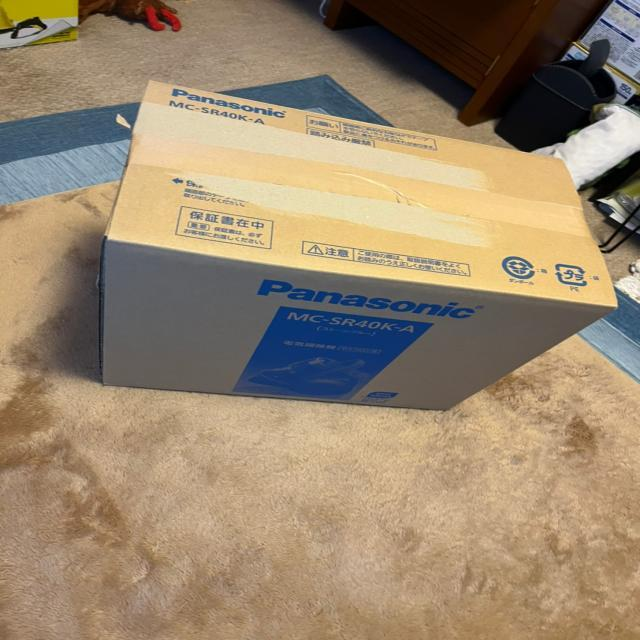-: (88, 75, 625, 417)
